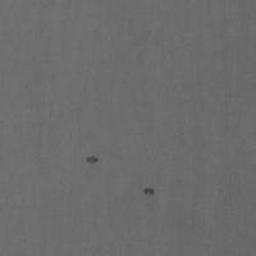Inclusion: (86, 156, 100, 165), (143, 187, 155, 197)
